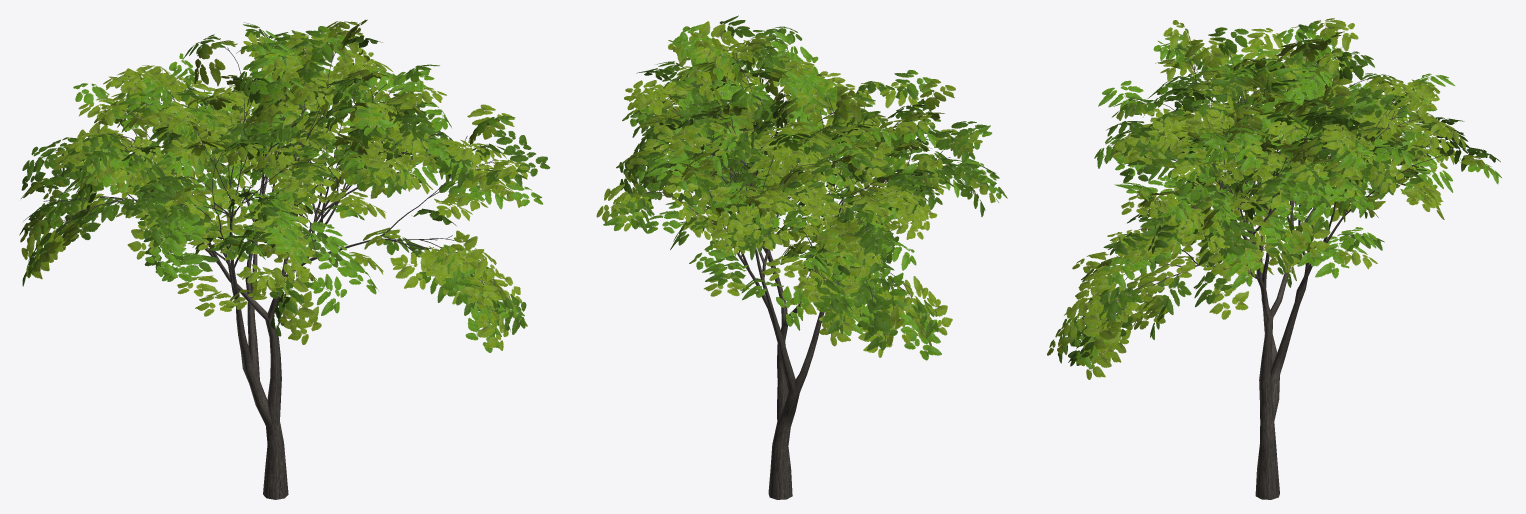
File: treeB.obj
3 renders of one model, left to right at view 1: azimuth 30°, elevation 25°; view 2: azimuth 150°, elevation 25°; view 3: azimuth 270°, elevation 25°, orthographic. The views are drawn at different scales.
Visible parts, largest first — view 1: Branches_B, Trunk_A; view 2: Branches_B, Trunk_A; view 3: Branches_B, Trunk_A.
Part boxes in pixels (x1,y1,x2,y2): Branches_B: (19, 19, 550, 352); Trunk_A: (43, 36, 499, 499); Branches_B: (596, 15, 1007, 360); Trunk_A: (644, 46, 952, 499); Branches_B: (1047, 18, 1501, 379); Trunk_A: (1087, 50, 1454, 499).
Size of the model in its own units: 23.11 by 24.3 by 22.55.
Materials: 2 (2 with a texture image).
